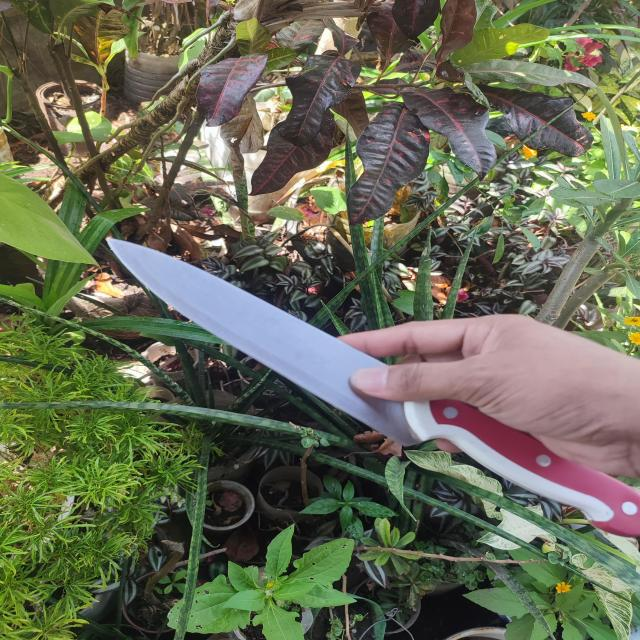knife: (106, 238, 640, 534)
